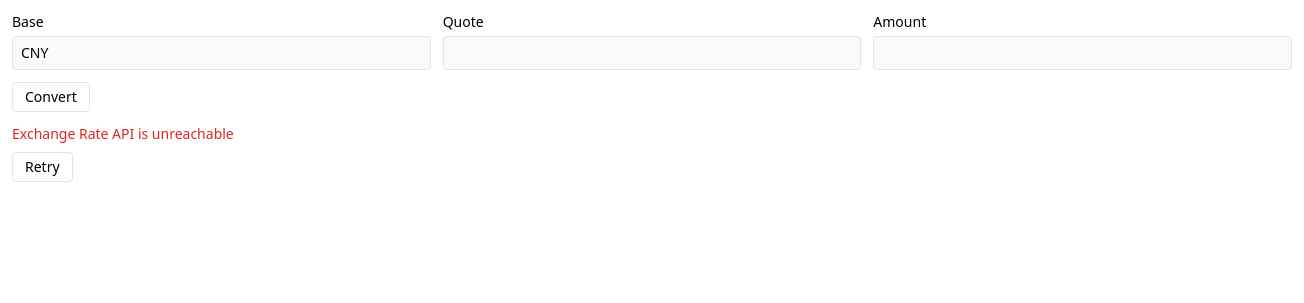
Test case: RatesSection › shows the failure message with Retry and re-issues the identical request
Expected: the text "Exchange Rate API is unreachable" is shown, [12, 124, 234, 143]
Click the button "Retry". click: click(42, 167)
box: [12, 152, 73, 182]
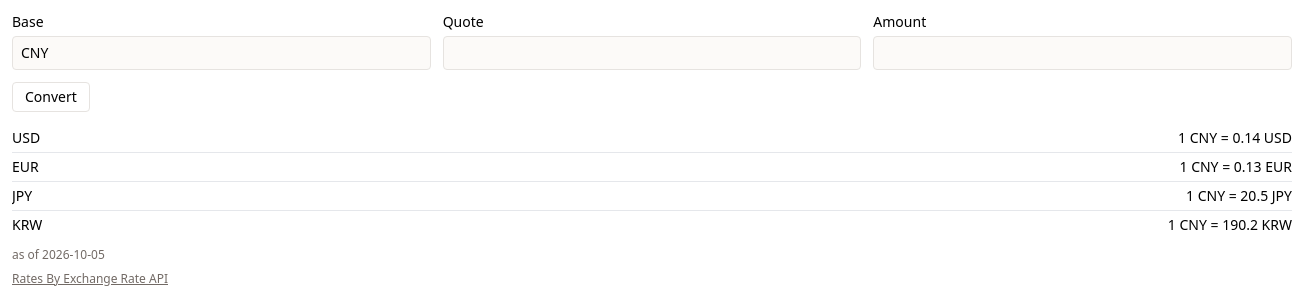
Result: the text "USD" is shown at [12, 128, 40, 148]
